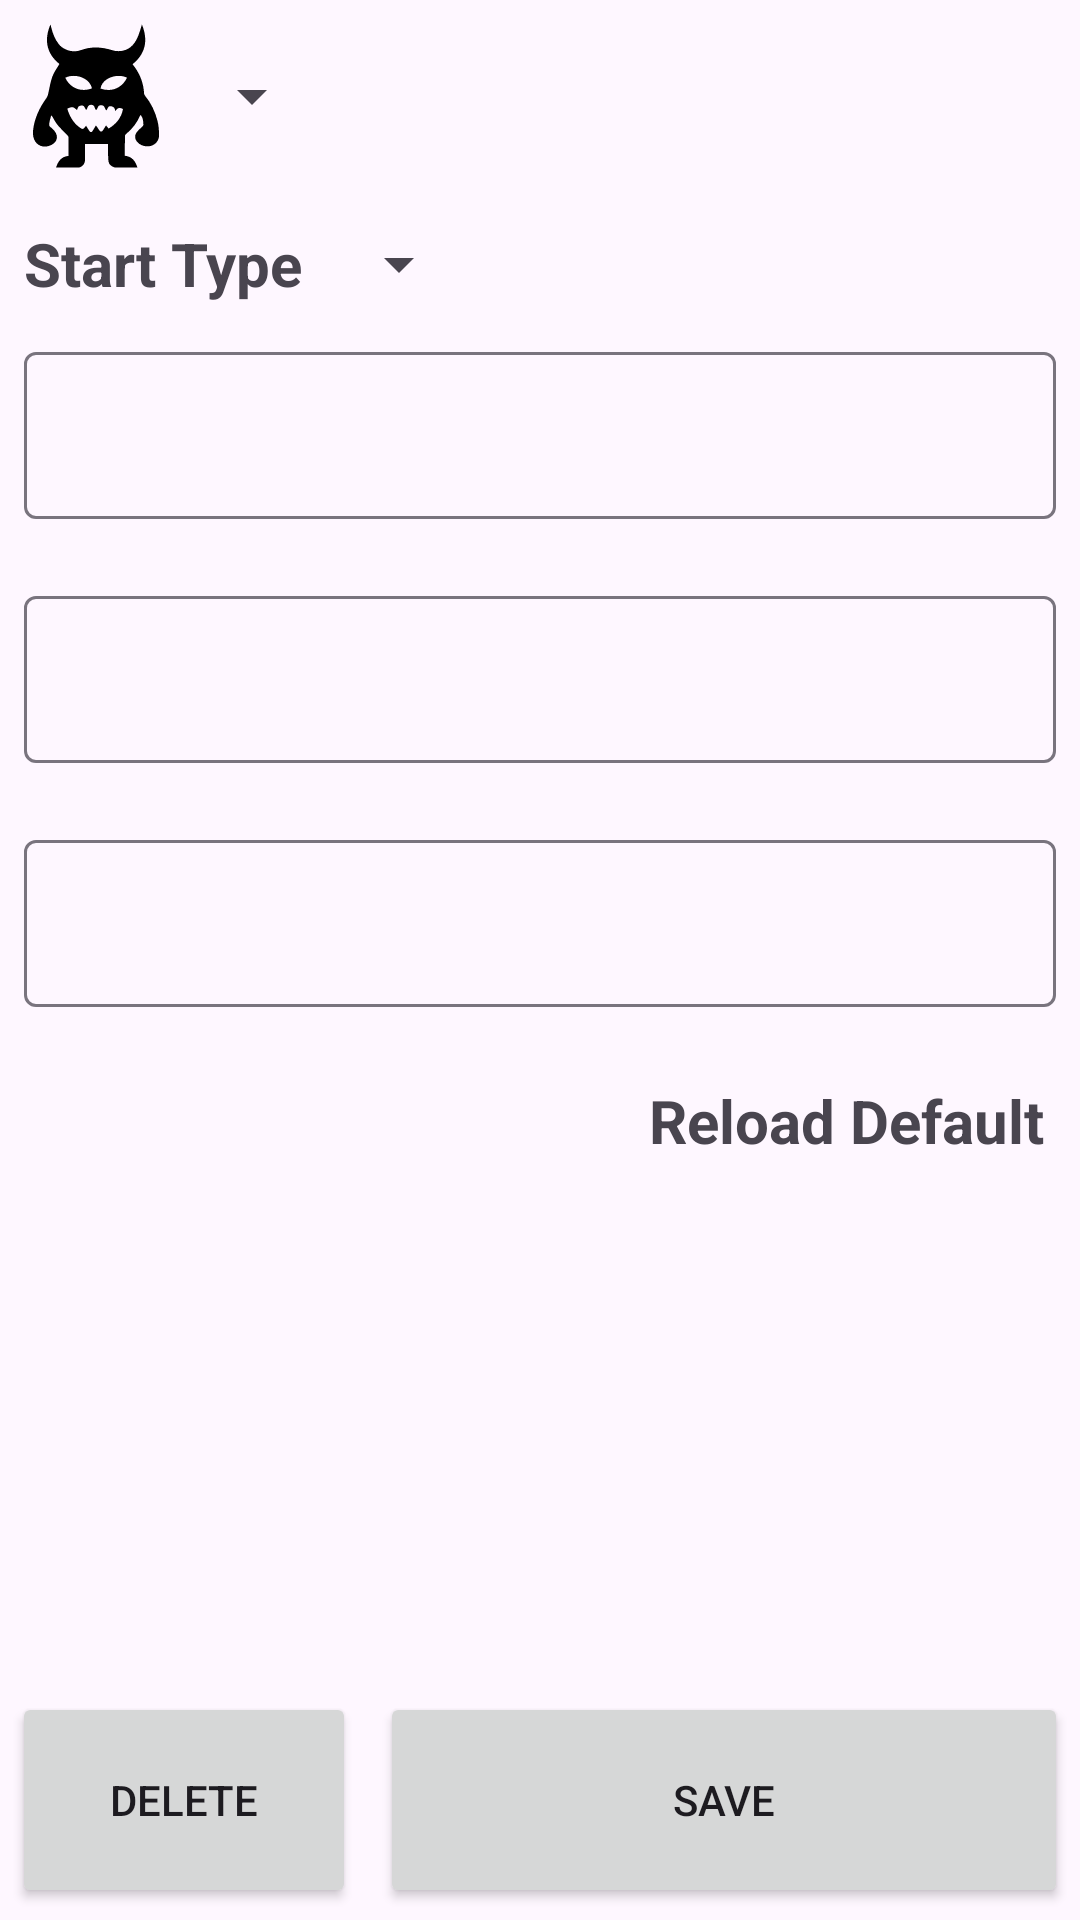

Named icons in this screenshot (1080×1920) and their bounding boxes, [x1=x1, y1=y1, x2=x2, y2=y2]:
monster simple: [x1=33, y1=24, x2=159, y2=168]
